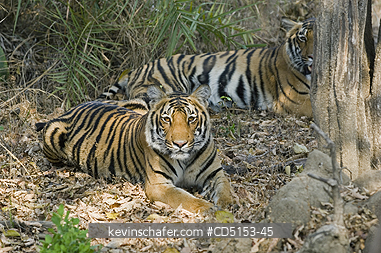Tigre: (38, 98, 238, 212)
